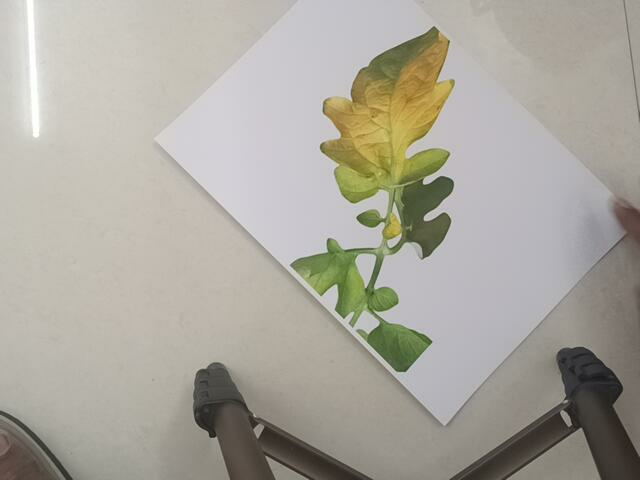Tomamto_Yellow_Disease: (293, 31, 489, 374)
